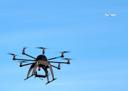UAV: (12, 47, 70, 85)
